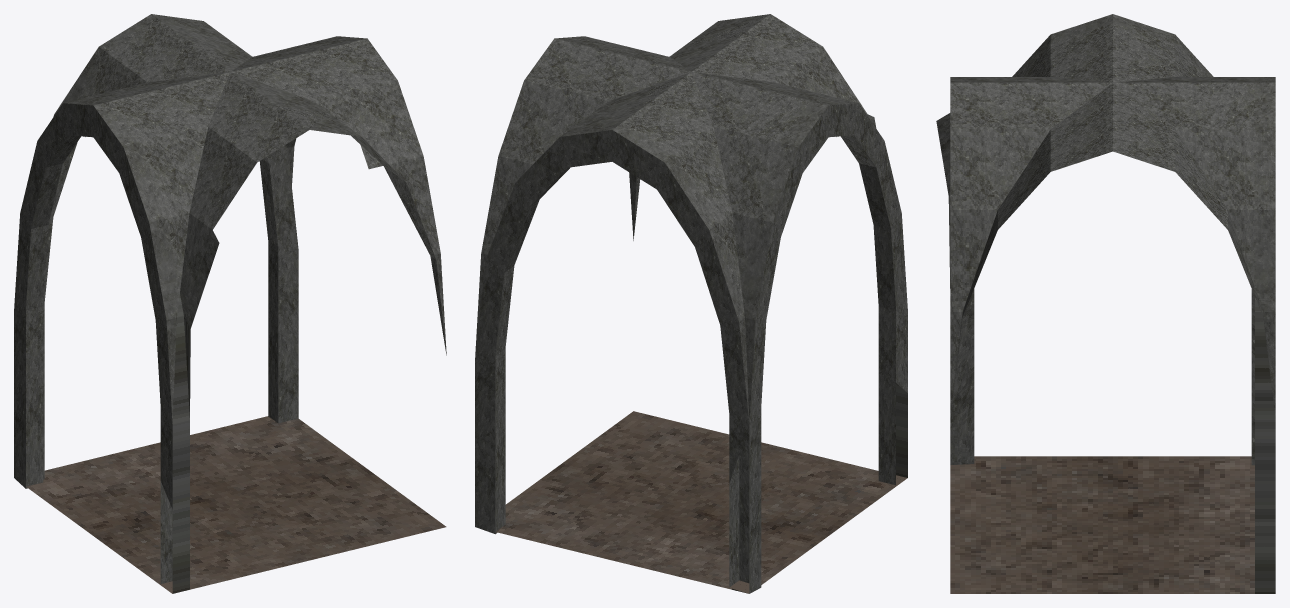
The model's file is dungeon_crossing_model.gltf.
3 views of the same model, side by side, from view 1: azimuth 30°, elevation 25°; view 2: azimuth 150°, elevation 25°; view 3: azimuth 270°, elevation 25° (orthographic). The views are drawn at different scales.
Visible parts, largest first — view 1: Cube.001; view 2: Cube.001; view 3: Cube.001.
Boxes of the visible parts, box(x1,y1,x2,y2) form: Cube.001: box(14, 14, 446, 593); Cube.001: box(475, 14, 907, 593); Cube.001: box(936, 14, 1275, 593).
Size of the model in its own units: 2 by 3.02 by 2.09.
2 materials, 2 textured.
